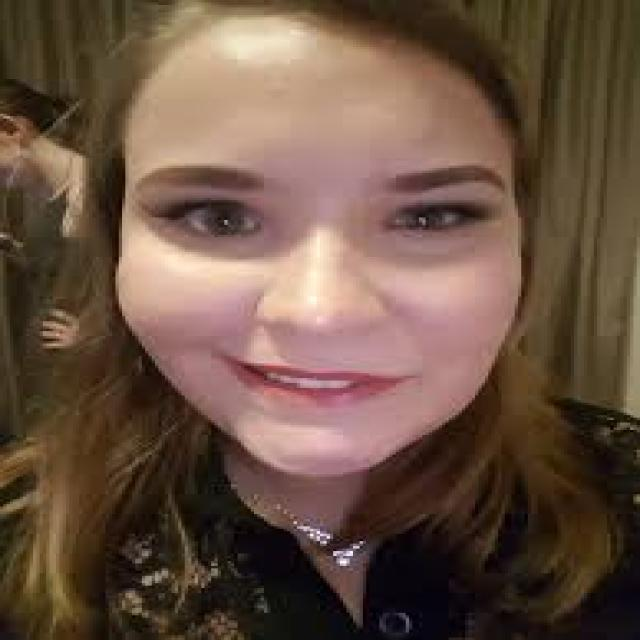stroke_face: (102, 33, 585, 501)
